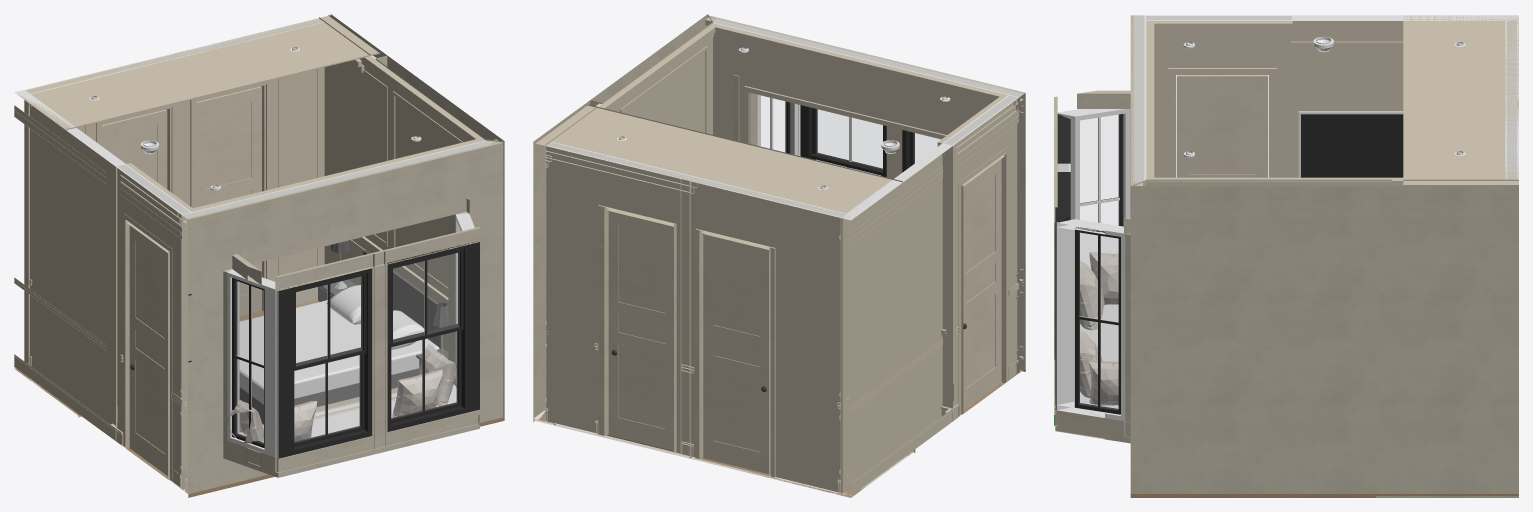
Rendered from loli-bedroom-6451bd442f04.glb.
3 views of the same model, side by side, from view 1: azimuth 30°, elevation 25°; view 2: azimuth 150°, elevation 25°; view 3: azimuth 270°, elevation 25° (orthographic). The views are drawn at different scales.
Visible parts, largest first — view 1: loli-bedroom-93447d0fea18c81b, loli-bedroom-6a1144f4e43410bb, loli-bedroom-fd1c2425c72e98e4, loli-bedroom-4cda501b4aaed82b, loli-bedroom-2575515a05775d9e, loli-bedroom-4be2558270762b51, loli-bedroom-0e637d2be41161fb, loli-bedroom-cf6d22c5317ced0b, loli-bedroom-527014f532f46c8e, loli-bedroom-592bd9af2ed71797, loli-bedroom-eceff908bd344cec, loli-bedroom-75b75731e5e739a5 (+30 smaller); view 2: loli-bedroom-0e637d2be41161fb, loli-bedroom-6a1144f4e43410bb, loli-bedroom-93447d0fea18c81b, loli-bedroom-5b37b110dc0e2cdc, loli-bedroom-eceff908bd344cec, loli-bedroom-2575515a05775d9e, loli-bedroom-68d06b361ac47823, loli-bedroom-cf6d22c5317ced0b, loli-bedroom-592bd9af2ed71797, loli-bedroom-4cda501b4aaed82b, loli-bedroom-e6c2d716d4dbef87, loli-bedroom-319244b3406409d9 (+19 smaller); view 3: loli-bedroom-592bd9af2ed71797, loli-bedroom-319244b3406409d9, loli-bedroom-2575515a05775d9e, loli-bedroom-53e6a9e479527da3, loli-bedroom-6a1144f4e43410bb, loli-bedroom-cf6d22c5317ced0b, loli-bedroom-68d06b361ac47823, loli-bedroom-527014f532f46c8e, loli-bedroom-8a8ceecced350b7e, loli-bedroom-93447d0fea18c81b, loli-bedroom-d8b729a36612415b, loli-bedroom-ad11484878029c25 (+17 smaller).
Boxes of the visible parts, x1,y1,x2,y2 form: loli-bedroom-93447d0fea18c81b: (181, 140, 502, 494); loli-bedroom-6a1144f4e43410bb: (14, 90, 125, 428); loli-bedroom-fd1c2425c72e98e4: (279, 268, 371, 458); loli-bedroom-4cda501b4aaed82b: (386, 241, 479, 431); loli-bedroom-2575515a05775d9e: (15, 15, 380, 130); loli-bedroom-4be2558270762b51: (239, 240, 448, 424); loli-bedroom-0e637d2be41161fb: (24, 18, 324, 364); loli-bedroom-cf6d22c5317ced0b: (129, 225, 167, 475); loli-bedroom-527014f532f46c8e: (227, 270, 278, 458); loli-bedroom-592bd9af2ed71797: (375, 55, 504, 416); loli-bedroom-eceff908bd344cec: (196, 86, 261, 315); loli-bedroom-75b75731e5e739a5: (277, 263, 478, 477); loli-bedroom-0e637d2be41161fb: (545, 141, 847, 493); loli-bedroom-6a1144f4e43410bb: (841, 143, 952, 495); loli-bedroom-93447d0fea18c81b: (709, 15, 1025, 372); loli-bedroom-5b37b110dc0e2cdc: (703, 233, 768, 474); loli-bedroom-eceff908bd344cec: (608, 210, 673, 450); loli-bedroom-2575515a05775d9e: (535, 104, 902, 220); loli-bedroom-68d06b361ac47823: (942, 95, 1018, 420); loli-bedroom-cf6d22c5317ced0b: (963, 159, 1001, 410); loli-bedroom-592bd9af2ed71797: (590, 14, 712, 134); loli-bedroom-4cda501b4aaed82b: (800, 105, 886, 177); loli-bedroom-e6c2d716d4dbef87: (713, 23, 1017, 110); loli-bedroom-319244b3406409d9: (533, 100, 601, 419); loli-bedroom-592bd9af2ed71797: (1130, 179, 1392, 493); loli-bedroom-319244b3406409d9: (1392, 179, 1518, 493); loli-bedroom-2575515a05775d9e: (1403, 15, 1518, 186); loli-bedroom-53e6a9e479527da3: (1056, 219, 1125, 421); loli-bedroom-6a1144f4e43410bb: (1292, 15, 1518, 177); loli-bedroom-cf6d22c5317ced0b: (1176, 75, 1268, 177); loli-bedroom-68d06b361ac47823: (1146, 15, 1291, 177); loli-bedroom-527014f532f46c8e: (1057, 109, 1130, 269); loli-bedroom-8a8ceecced350b7e: (1298, 111, 1403, 177); loli-bedroom-93447d0fea18c81b: (1130, 15, 1146, 185); loli-bedroom-d8b729a36612415b: (1055, 234, 1130, 443); loli-bedroom-ad11484878029c25: (1147, 177, 1391, 186).
Size of the model in its own units: 3.62 by 3.05 by 4.12.
Materials: 32 (5 with a texture image).
